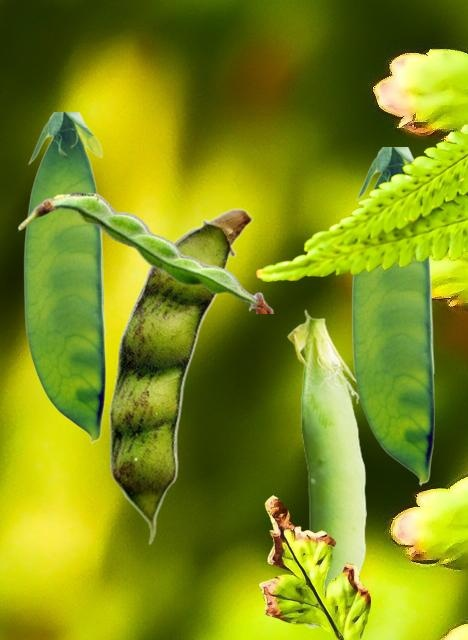pea: (109, 207, 252, 544), (18, 192, 273, 312), (351, 147, 433, 484), (23, 112, 104, 442), (287, 309, 365, 627)
